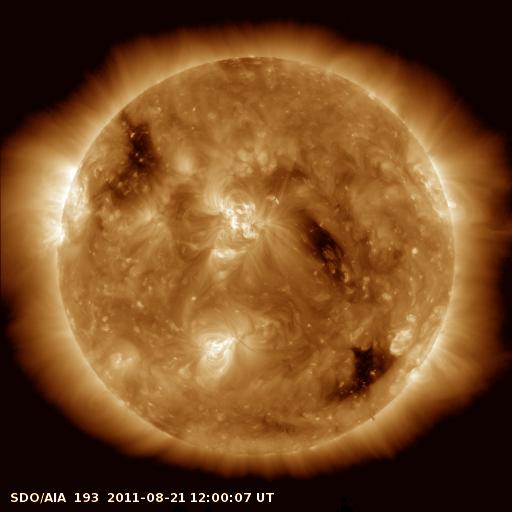coronal_hole: (100, 117, 157, 209), (332, 344, 396, 403), (293, 216, 345, 272)
